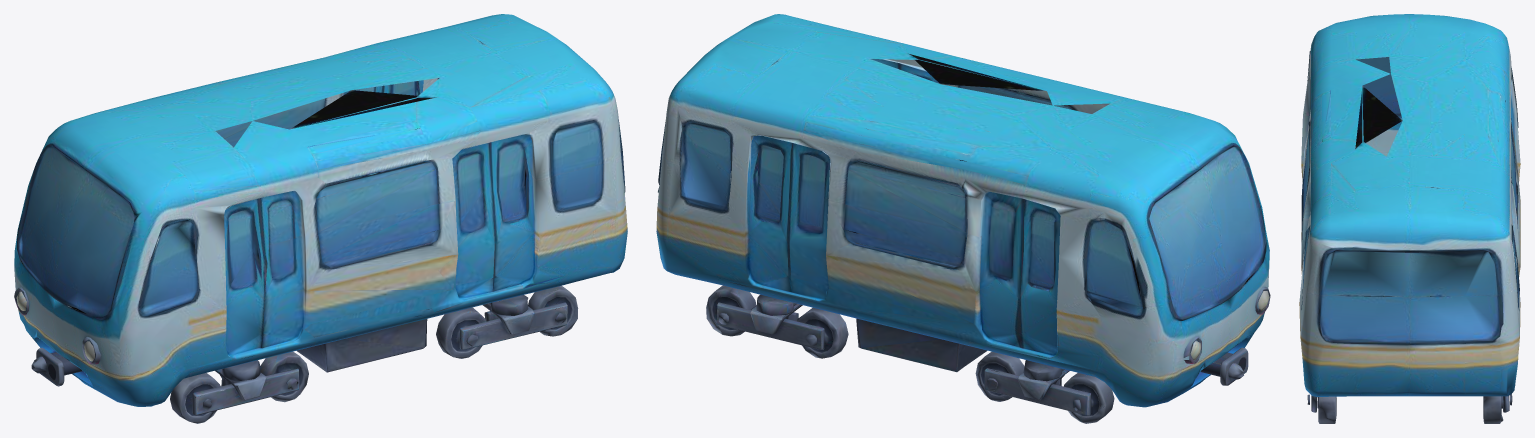
Rendered from cab.glb.
3 renders of one model, left to right at view 1: azimuth 30°, elevation 25°; view 2: azimuth 150°, elevation 25°; view 3: azimuth 270°, elevation 25°, orthographic. The views are drawn at different scales.
Visible parts, largest first — view 1: geometry_0; view 2: geometry_0; view 3: geometry_0.
Part boxes in pixels (x1,y1,x2,y2): geometry_0: (14, 14, 627, 423); geometry_0: (656, 14, 1270, 423); geometry_0: (1299, 14, 1520, 423).
Bounding box in the file's own units: 0.958 × 0.4205 × 0.3667.
1 material, 1 textured.
